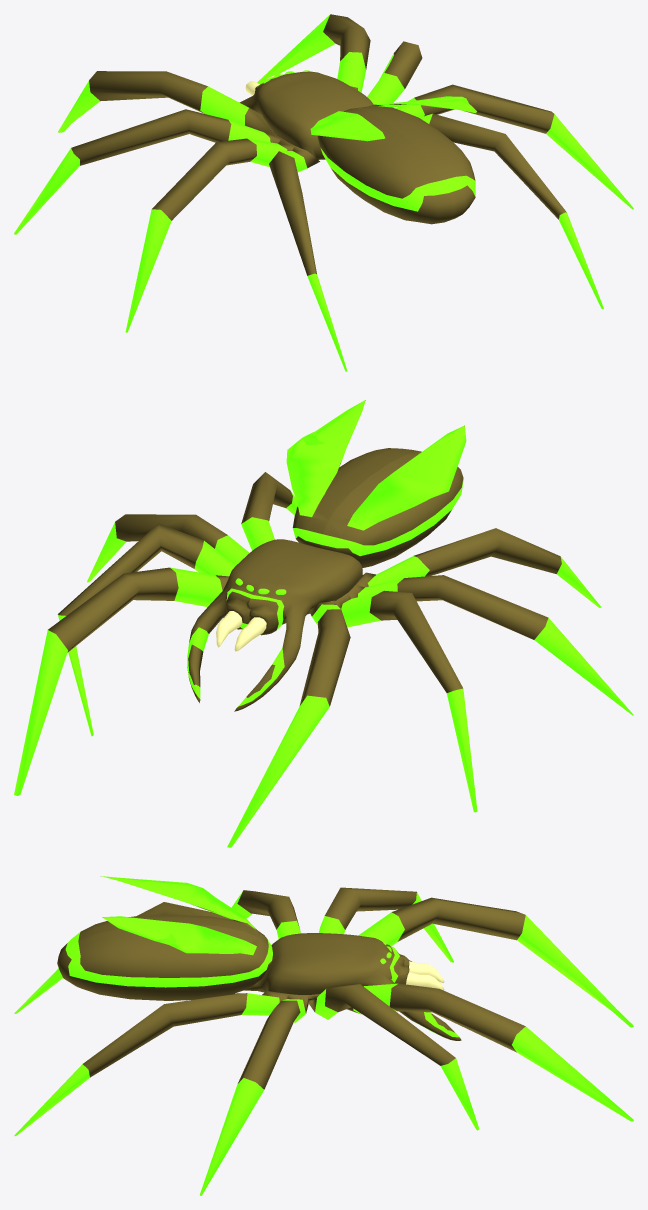
File: Venomwasp Base.fbx
3 views of the same model, one above another, from view 1: azimuth 30°, elevation 25°; view 2: azimuth 150°, elevation 25°; view 3: azimuth 270°, elevation 25° (orthographic). The views are drawn at different scales.
Visible parts, largest first — view 1: Spider; view 2: Spider, Spider_teeth; view 3: Spider, Spider_teeth.
Part boxes in pixels (left/top/right/bottom): Spider: left=14, top=14, right=633, bottom=371; Spider: left=14, top=400, right=633, bottom=847; Spider_teeth: left=216, top=611, right=266, bottom=651; Spider: left=14, top=876, right=633, bottom=1195; Spider_teeth: left=406, top=961, right=444, bottom=990.
Bounding box in the file's own units: 18400 × 6480 × 19863.
